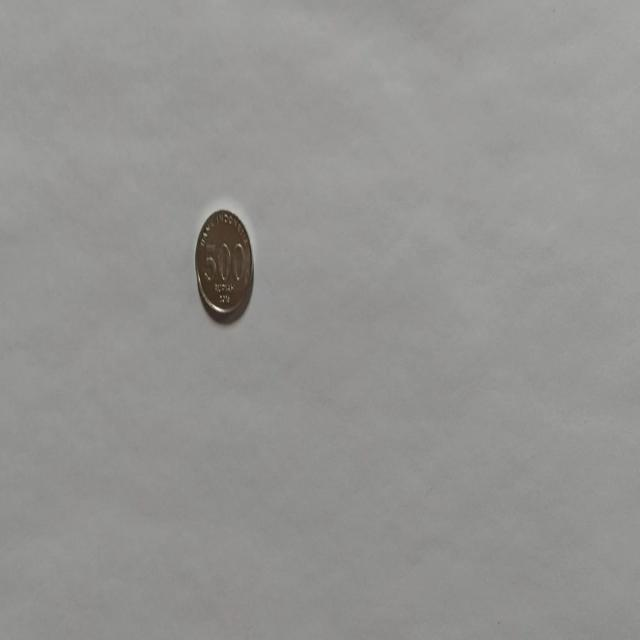lima ratus rupiah: (194, 207, 254, 324)
